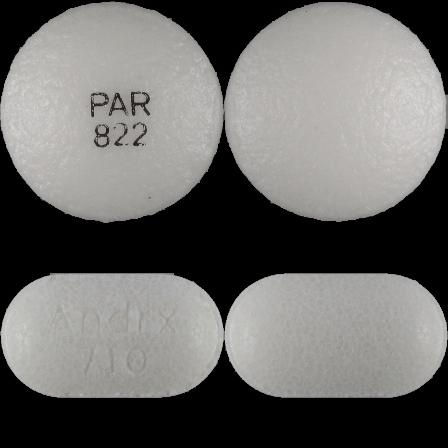21695-700: (0, 0, 224, 224)
